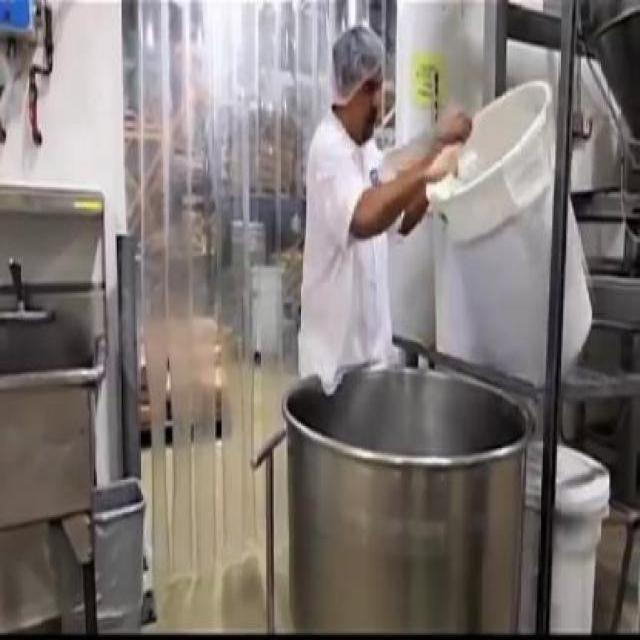bare_hand: (427, 89, 483, 155), (419, 143, 460, 195)
